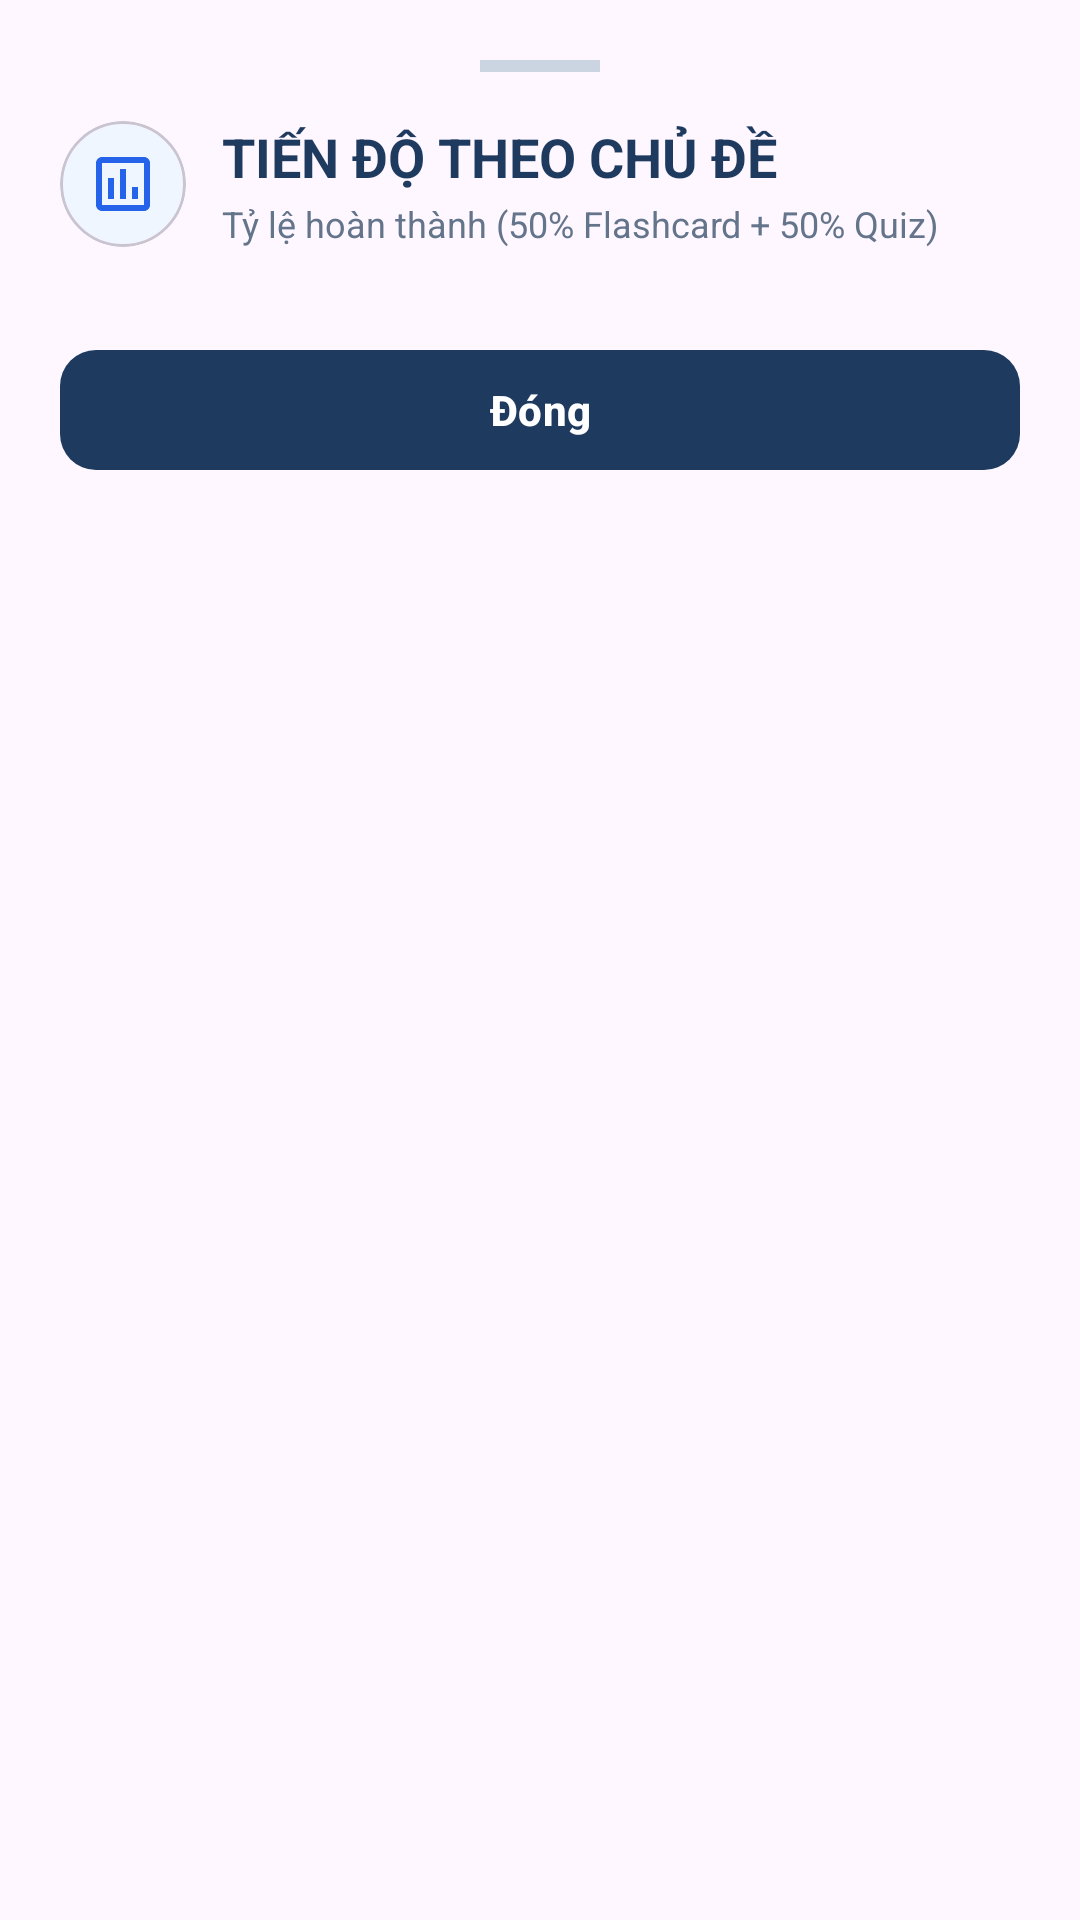

Where to tap for icons on this 1080x1920 app screen, as [x,y]:
chart: [123,184]
